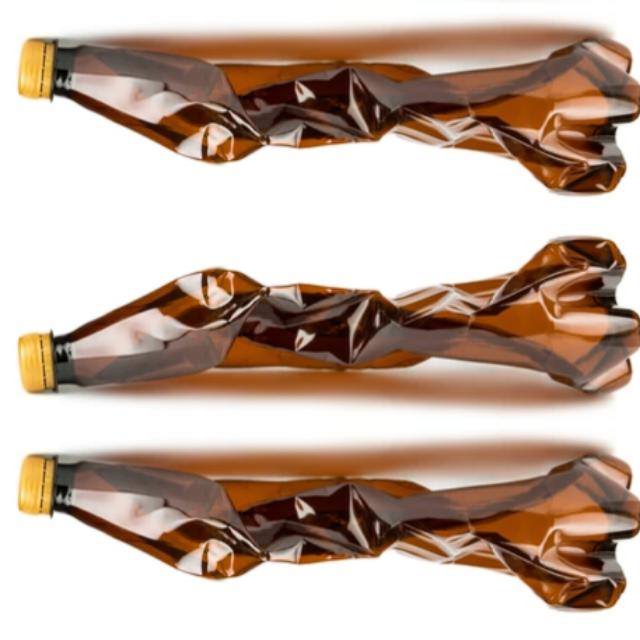Plastic: (16, 218, 640, 412), (16, 18, 640, 212), (16, 435, 640, 629), (16, 635, 640, 640)
